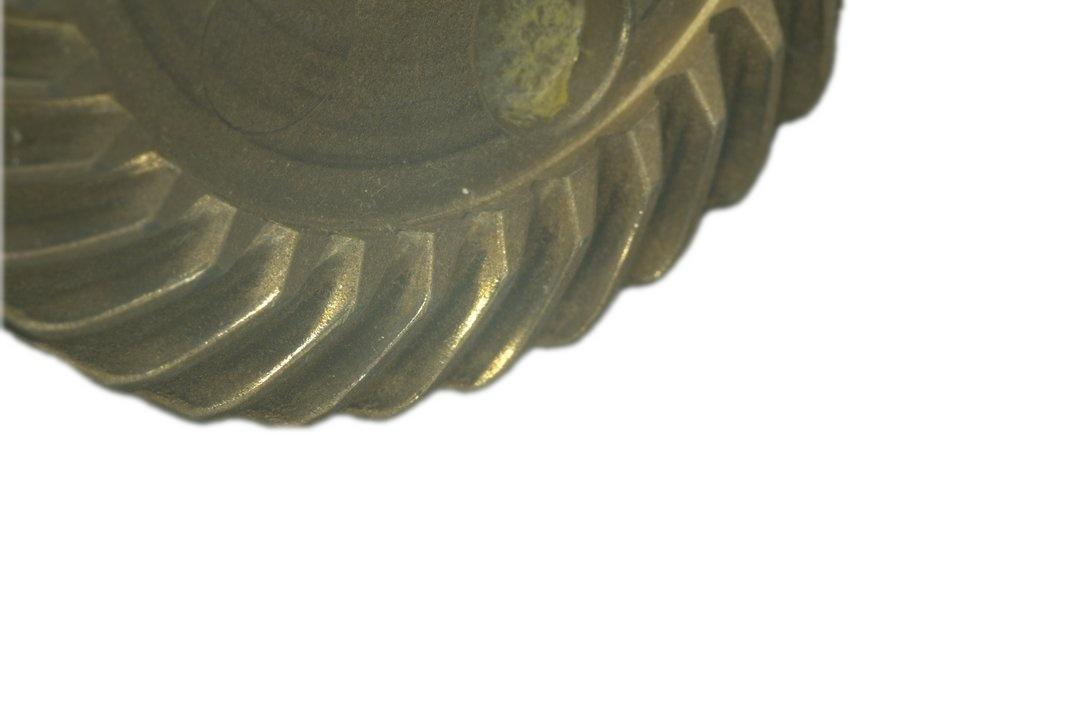defect: (118, 234, 297, 387), (219, 278, 358, 411), (102, 268, 208, 316), (469, 317, 541, 386), (451, 278, 498, 352), (612, 194, 653, 275), (114, 146, 169, 181)
